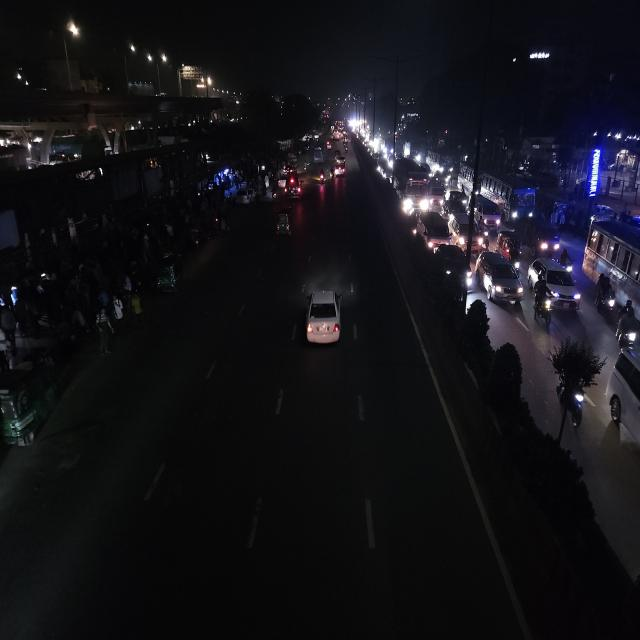bus: (582, 215, 640, 317), (481, 172, 537, 224), (391, 158, 431, 214), (432, 149, 456, 178), (312, 144, 324, 163)
car: (303, 282, 345, 354), (529, 256, 581, 314), (476, 250, 524, 308), (433, 243, 473, 293), (411, 210, 455, 252), (450, 212, 486, 255), (472, 194, 504, 232), (532, 223, 562, 259), (288, 171, 304, 199), (278, 175, 288, 193), (334, 165, 346, 178)
cng: (0, 349, 58, 454), (153, 249, 185, 296), (496, 230, 522, 265), (274, 205, 294, 240)
motorcycle: (614, 299, 640, 352), (594, 270, 618, 323), (532, 278, 552, 330), (320, 168, 324, 189)
pedestrian: (128, 288, 145, 324)
